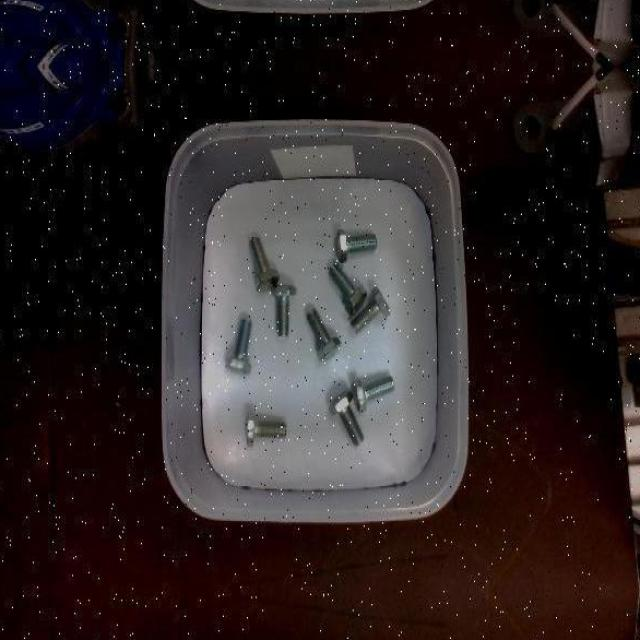screw: (329, 262, 368, 313), (329, 390, 365, 445), (307, 308, 342, 362), (352, 286, 391, 333), (250, 236, 281, 291), (352, 374, 395, 411), (225, 318, 252, 374), (246, 410, 287, 446), (336, 229, 378, 263), (271, 284, 296, 336)
